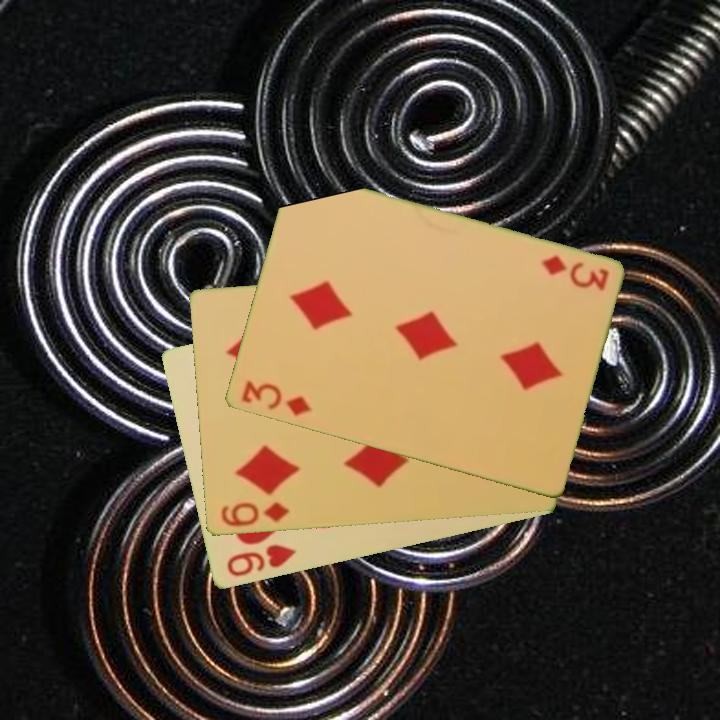3d: (238, 377, 314, 419), (538, 252, 612, 295)
6d: (217, 499, 292, 530)
9h: (223, 541, 298, 580)
